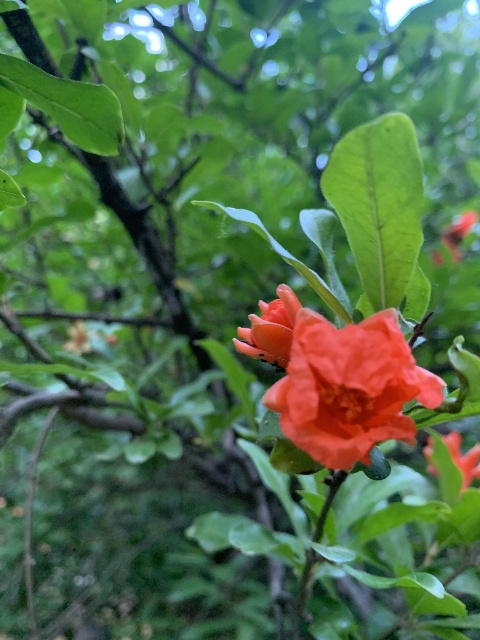flower: (260, 306, 444, 471), (233, 283, 302, 366), (423, 430, 480, 495)
